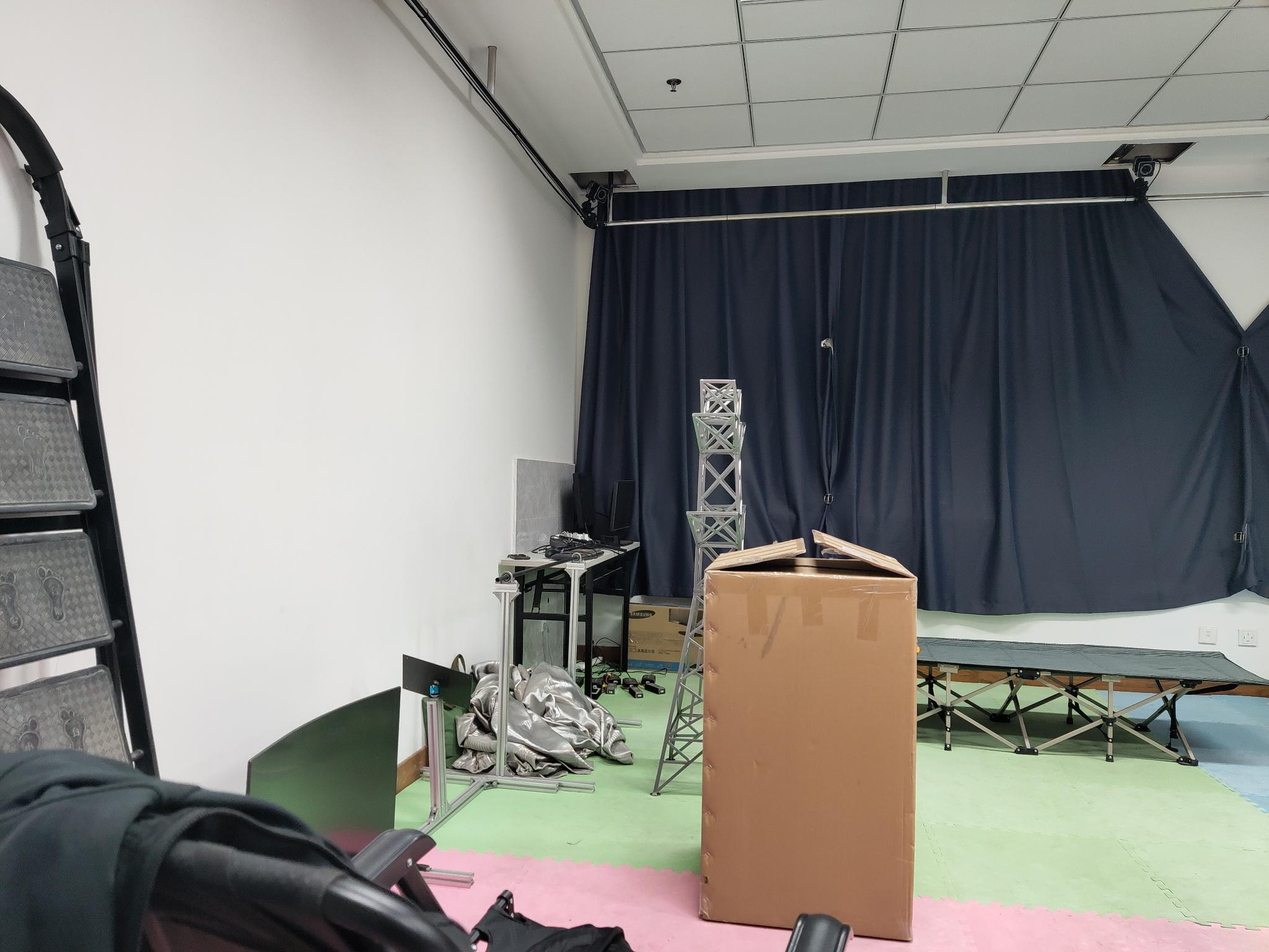tower: (646, 374, 750, 551)
